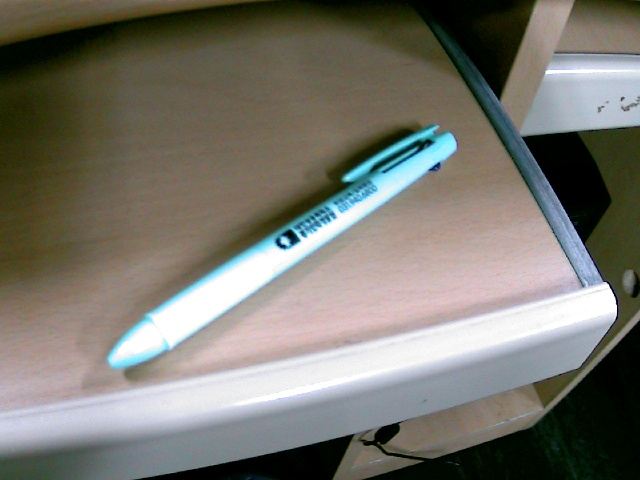pen: (106, 119, 455, 365)
